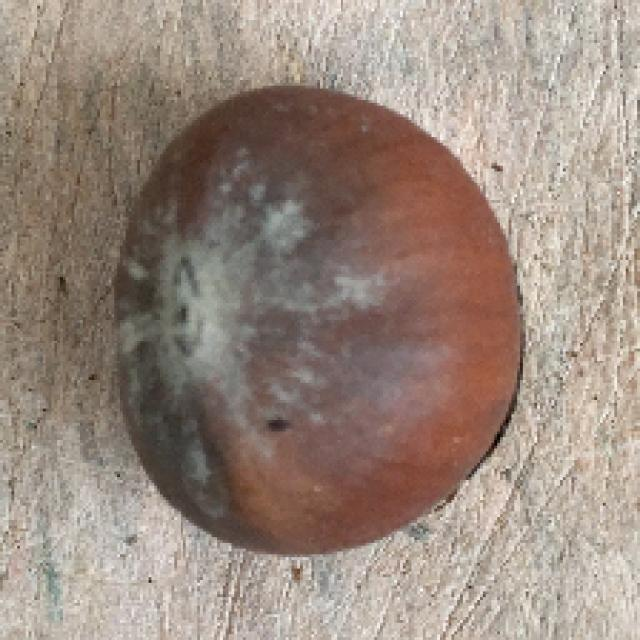qualityHazelnut: (106, 80, 528, 562)
